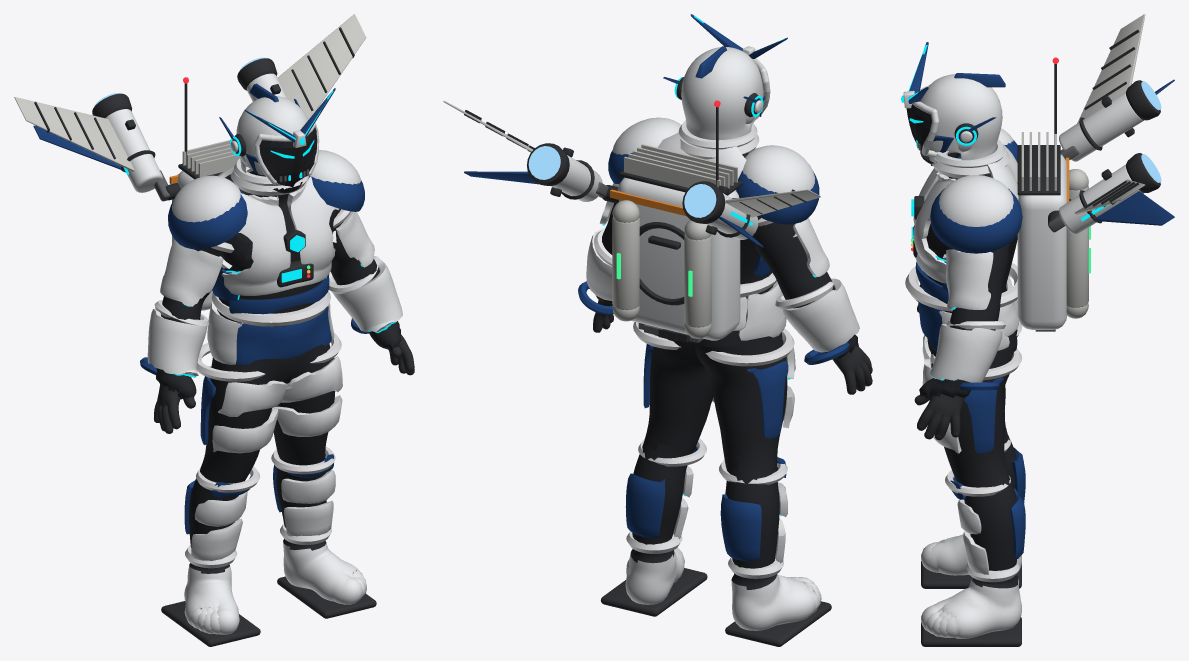
File: frame.glb
3 renders of one model, left to right at view 1: azimuth 30°, elevation 25°; view 2: azimuth 150°, elevation 25°; view 3: azimuth 270°, elevation 25°, orthographic. The views are drawn at different scales.
Visible parts, largest first — view 1: torso, arm_L, thigh_L, booster_L, head, thigh_R, shin_L, forearm_L, booster_R, shin_R, pelvis, arm_R (+3 smaller); view 2: torso, thigh_L, arm_L, head, shin_L, shin_R, thigh_R, forearm_L, foot_L, booster_R, booster_L, foot_R (+3 smaller); view 3: torso, arm_R, head, shin_R, booster_L, forearm_R, thigh_R, foot_R, booster_R, foot_L, pelvis, shin_L.
Boxes of the visible parts, x1=… form: torso: x1=169, y1=77, x2=339, y2=326; arm_L: x1=160, y1=175, x2=252, y2=317; thigh_L: x1=197, y1=343, x2=290, y2=479; booster_L: x1=14, y1=93, x2=180, y2=201; head: x1=219, y1=83, x2=335, y2=187; thigh_R: x1=272, y1=332, x2=342, y2=462; shin_L: x1=184, y1=461, x2=260, y2=573; forearm_L: x1=140, y1=300, x2=208, y2=433; booster_R: x1=237, y1=14, x2=366, y2=119; shin_R: x1=271, y1=446, x2=335, y2=550; pelvis: x1=207, y1=301, x2=334, y2=369; arm_R: x1=308, y1=150, x2=375, y2=282; torso: x1=610, y1=100, x2=776, y2=342; thigh_L: x1=694, y1=328, x2=795, y2=471; arm_L: x1=736, y1=145, x2=831, y2=299; head: x1=663, y1=14, x2=787, y2=149; shin_L: x1=719, y1=456, x2=787, y2=589; shin_R: x1=625, y1=438, x2=706, y2=563; thigh_R: x1=633, y1=322, x2=714, y2=450; forearm_L: x1=775, y1=278, x2=872, y2=394; foot_L: x1=725, y1=574, x2=831, y2=646; booster_R: x1=443, y1=100, x2=618, y2=203; booster_L: x1=682, y1=181, x2=820, y2=247; foot_R: x1=600, y1=547, x2=707, y2=616; torso: x1=905, y1=57, x2=1090, y2=331; arm_R: x1=927, y1=175, x2=1022, y2=321; head: x1=901, y1=42, x2=1005, y2=167; shin_R: x1=945, y1=470, x2=1025, y2=588; booster_L: x1=1059, y1=14, x2=1174, y2=161; forearm_R: x1=914, y1=317, x2=1005, y2=440; thigh_R: x1=922, y1=338, x2=1022, y2=480; foot_R: x1=921, y1=578, x2=1021, y2=646; booster_R: x1=1048, y1=153, x2=1174, y2=234; foot_L: x1=921, y1=534, x2=1021, y2=588; pelvis: x1=918, y1=276, x2=1018, y2=354; shin_L: x1=1004, y1=427, x2=1025, y2=502.
Bounding box in the file's own units: 1.22 × 1.8 × 0.8272.
